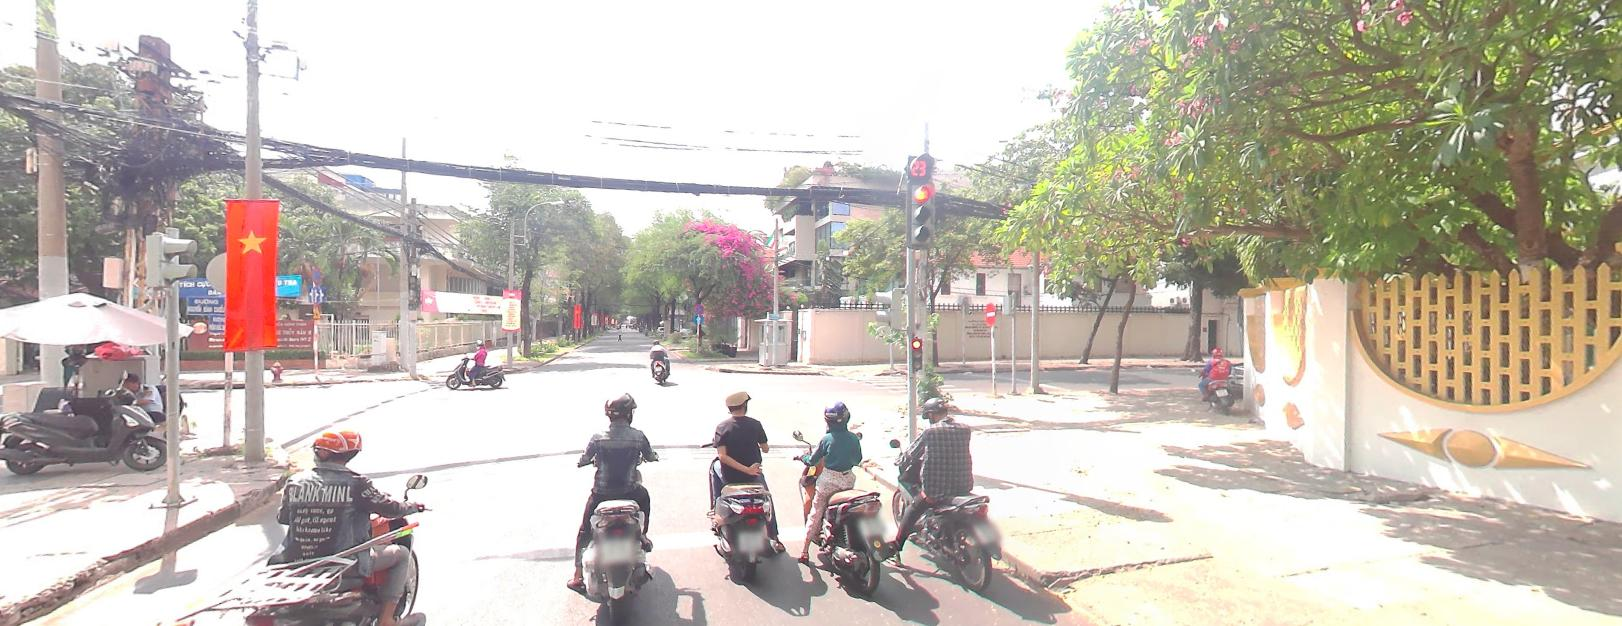Cam dung va do: (310, 265, 321, 284), (693, 302, 703, 312)
Cam nguoc chieu: (985, 301, 996, 323)
